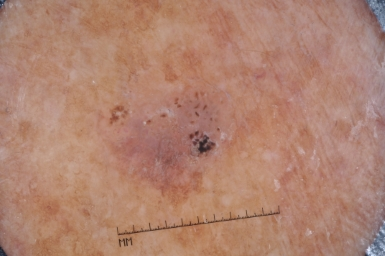seborrheic keratosis: (97, 78, 256, 198)
